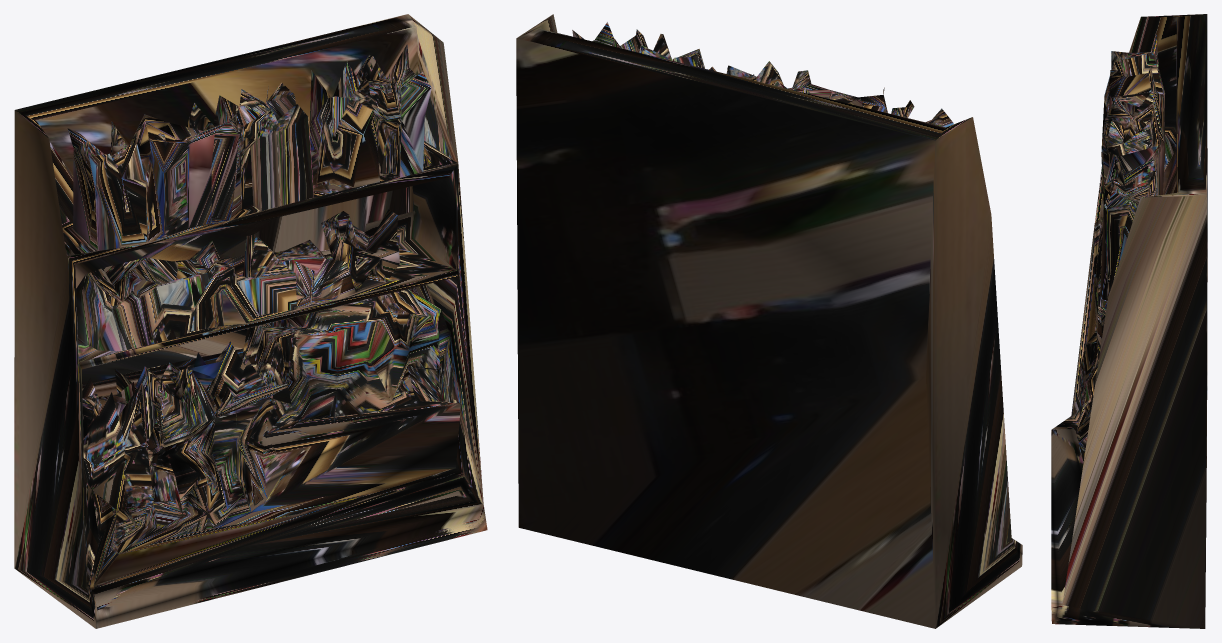
The model's file is toy_shelf.glb.
The picture shows the model from 3 angles, left to right: view 1: azimuth 30°, elevation 25°; view 2: azimuth 150°, elevation 25°; view 3: azimuth 270°, elevation 25°; orthographic projection. The views are drawn at different scales.
Parts seen in each view (by area): view 1: toy_shelf; view 2: toy_shelf; view 3: toy_shelf.
Part boxes in pixels (box(x1,y1,x2,y2)): toy_shelf: box(14, 14, 487, 628); toy_shelf: box(516, 14, 1022, 628); toy_shelf: box(1051, 14, 1207, 628).
Bounding box in the file's own units: 0.8971 × 1 × 0.3262.
1 material, 1 textured.
